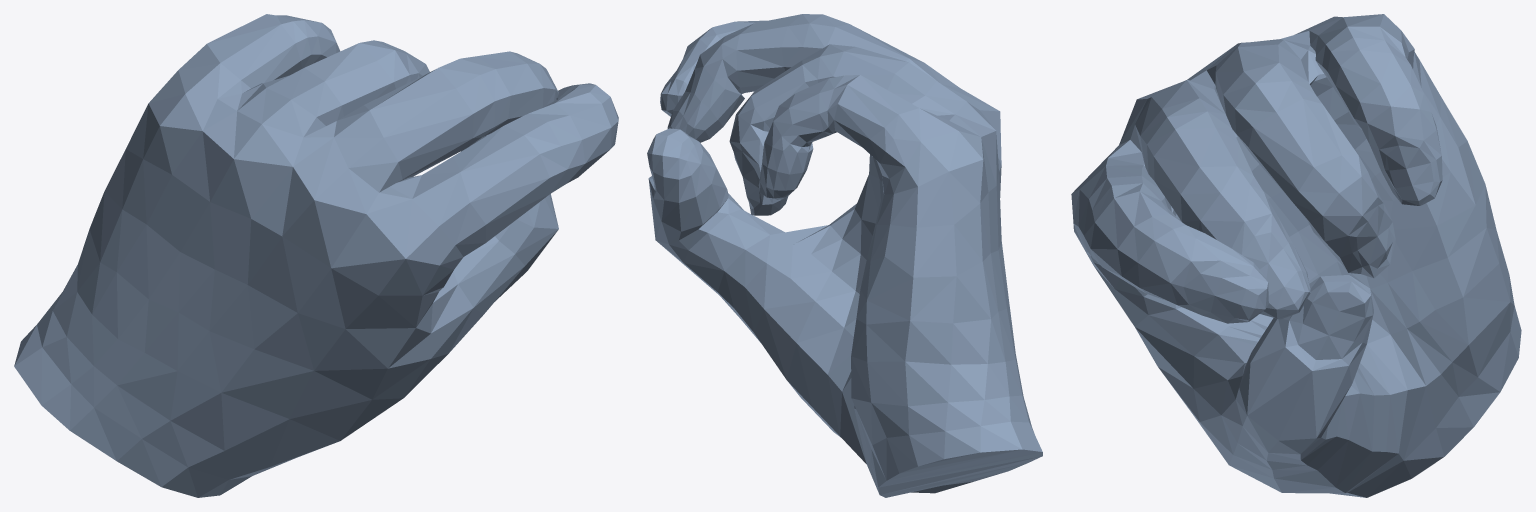
3 views of the same model, side by side, from view 1: azimuth 30°, elevation 25°; view 2: azimuth 150°, elevation 25°; view 3: azimuth 270°, elevation 25° (orthographic). The views are drawn at different scales.
Size of the model in its own units: 0.1338 by 0.1184 by 0.0956.
